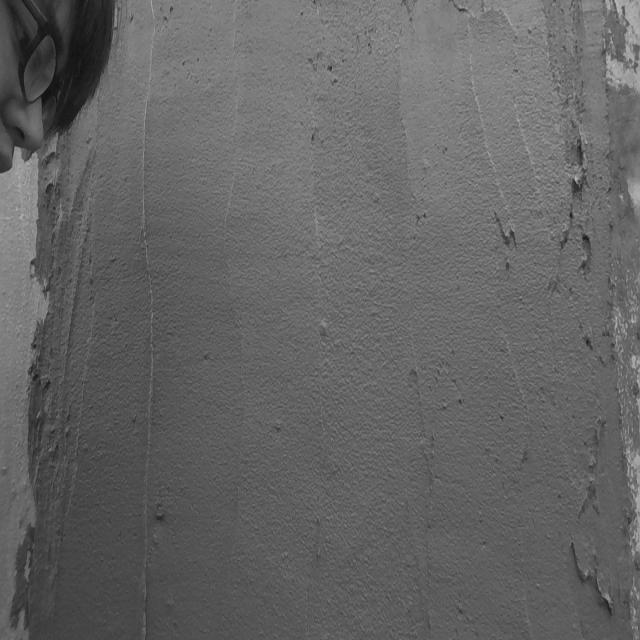trowels marks: (137, 7, 163, 640)
